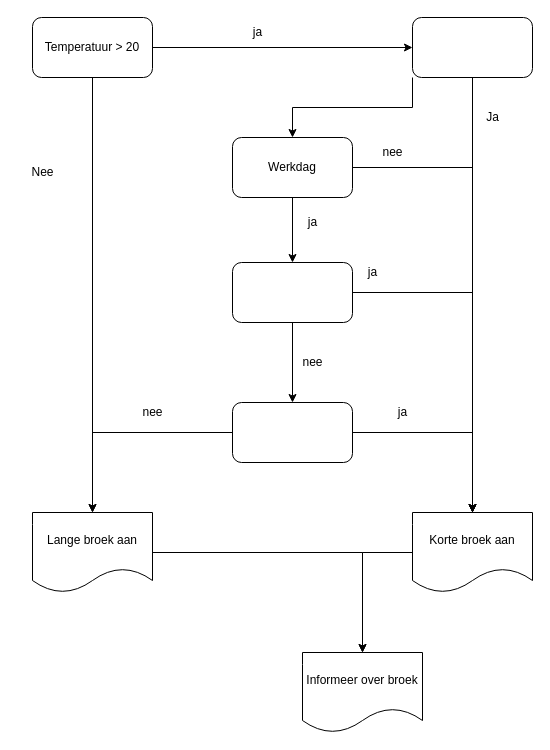
This 550x750 diagram has some shape labels left out. The centre of each missing label's shape, as x and y in pixels:
"Al vrij" goes at point (292, 292).
"Temperatuur > 40" goes at point (472, 47).
"thuiswerken" goes at point (292, 432).
